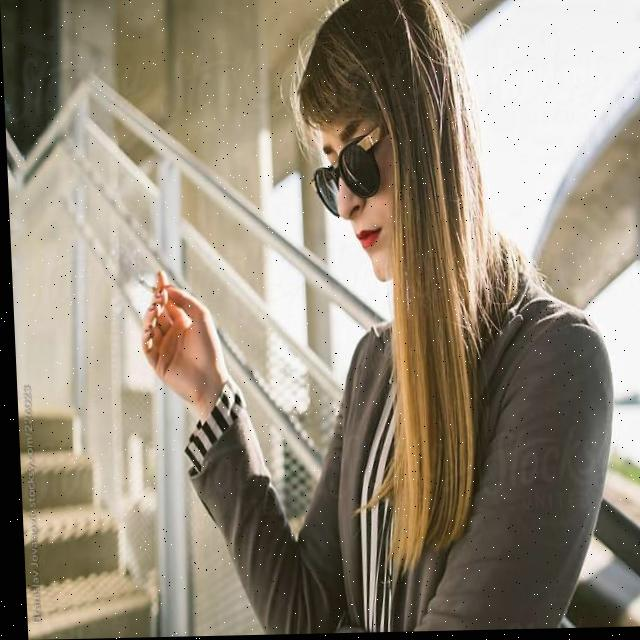cigarette: (137, 279, 163, 294)
